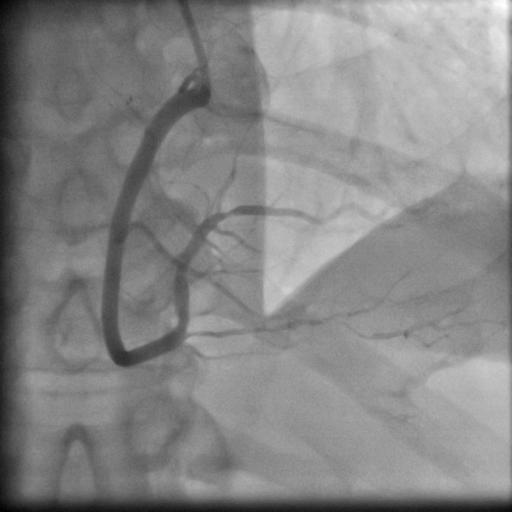Stenosis: (214, 206, 242, 225)
